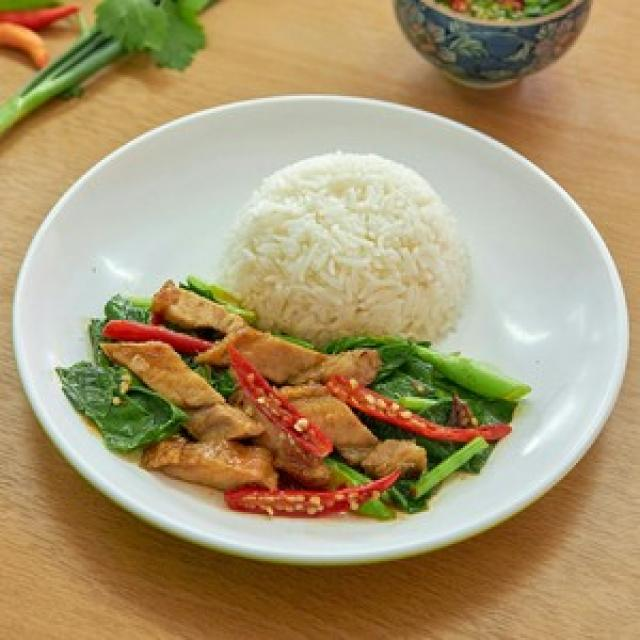carb: (226, 155, 470, 345)
meat: (155, 282, 392, 469), (102, 346, 257, 440), (142, 437, 275, 491)
vegetable: (323, 341, 531, 512), (59, 362, 187, 452), (232, 349, 331, 465), (90, 295, 209, 365), (226, 474, 401, 517), (181, 276, 257, 324), (329, 459, 372, 489), (360, 500, 396, 520)
